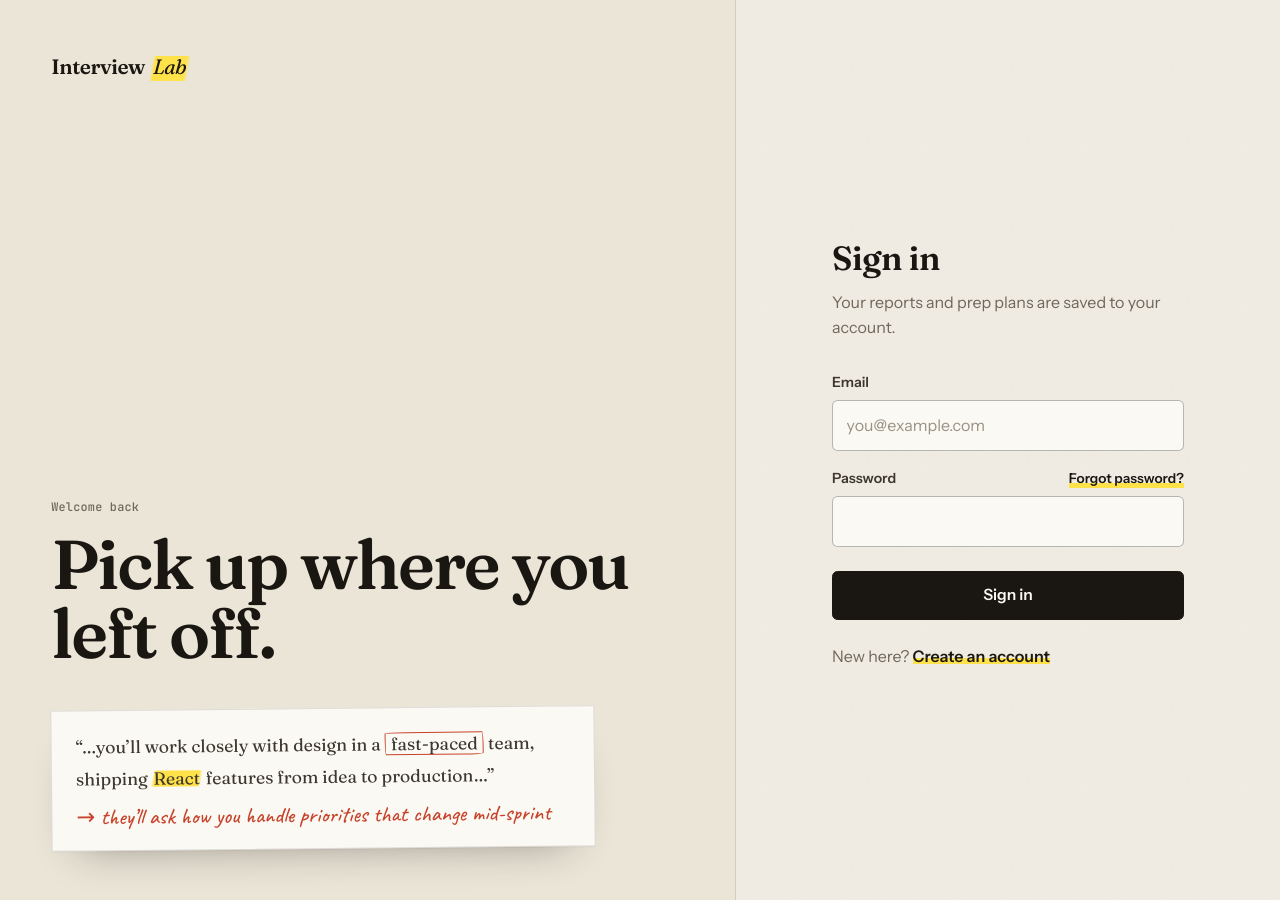
Login page › falls back to a friendly message when the server can't be reached
Type "ana@example.test" into the field labelled "Email" at (1008, 425), box [832,400,1184,451]
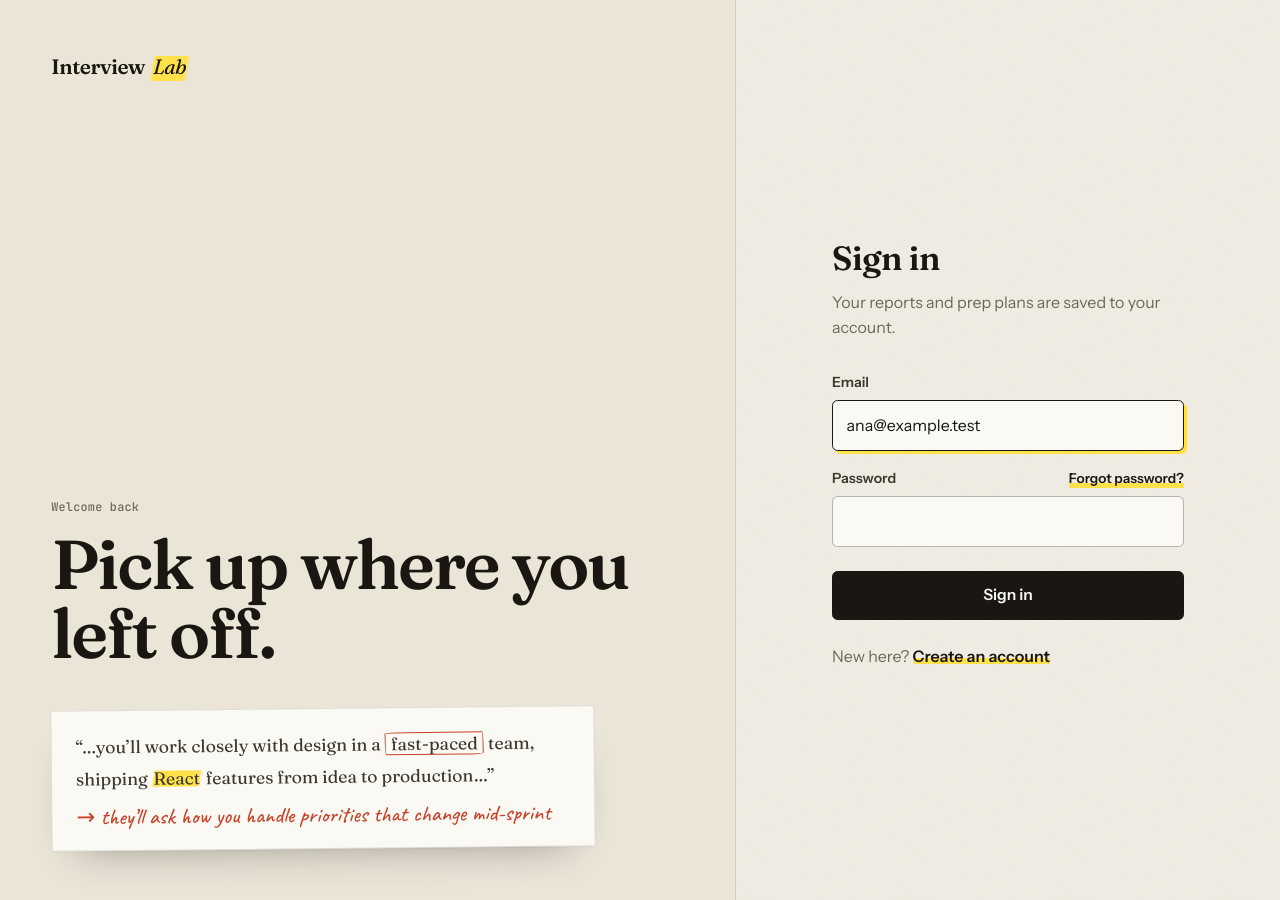
Type "pw" into the password field labelled "Password" at (1008, 522), box [832,496,1184,547]
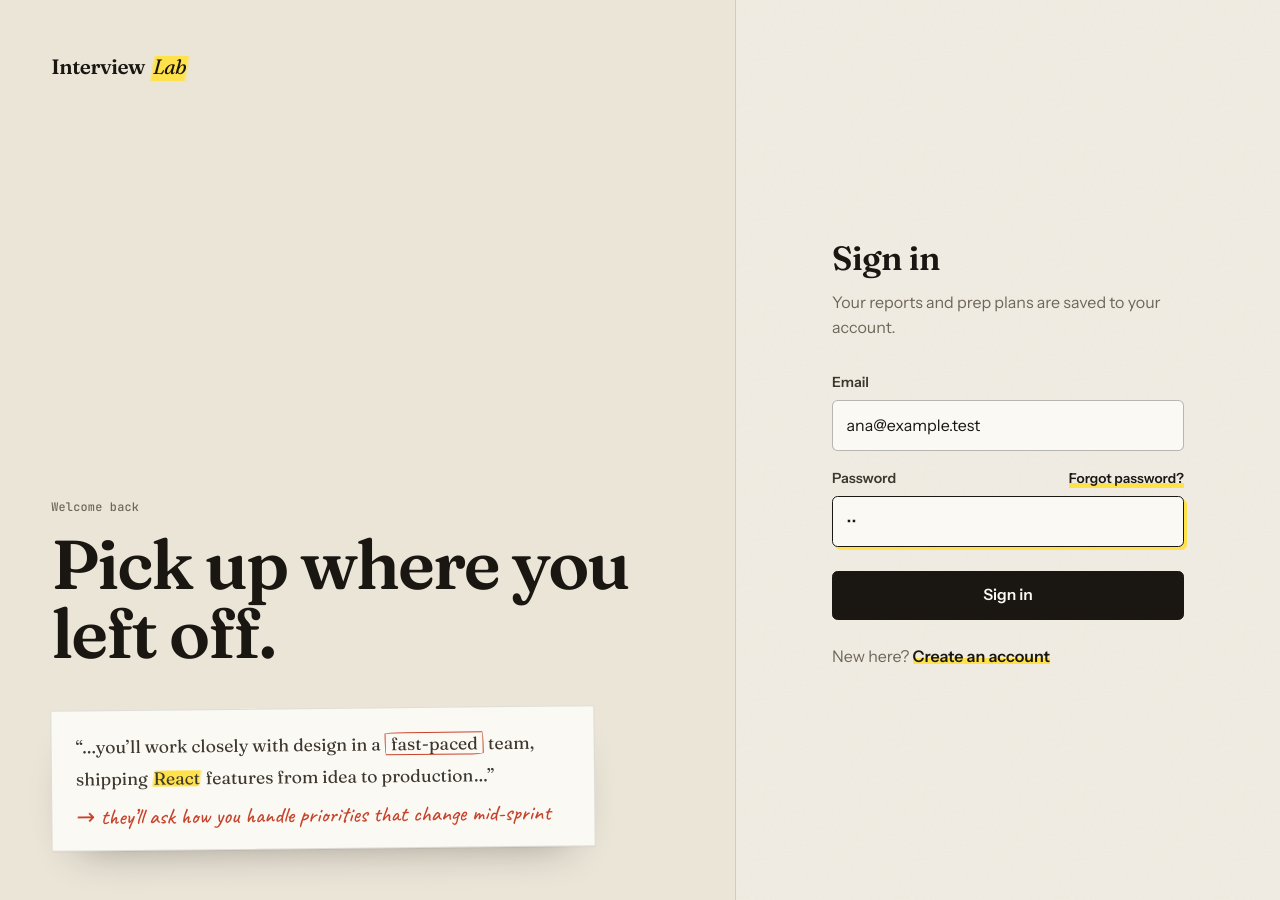
Click the button "Sign in" at (1008, 595), box [832,571,1184,620]
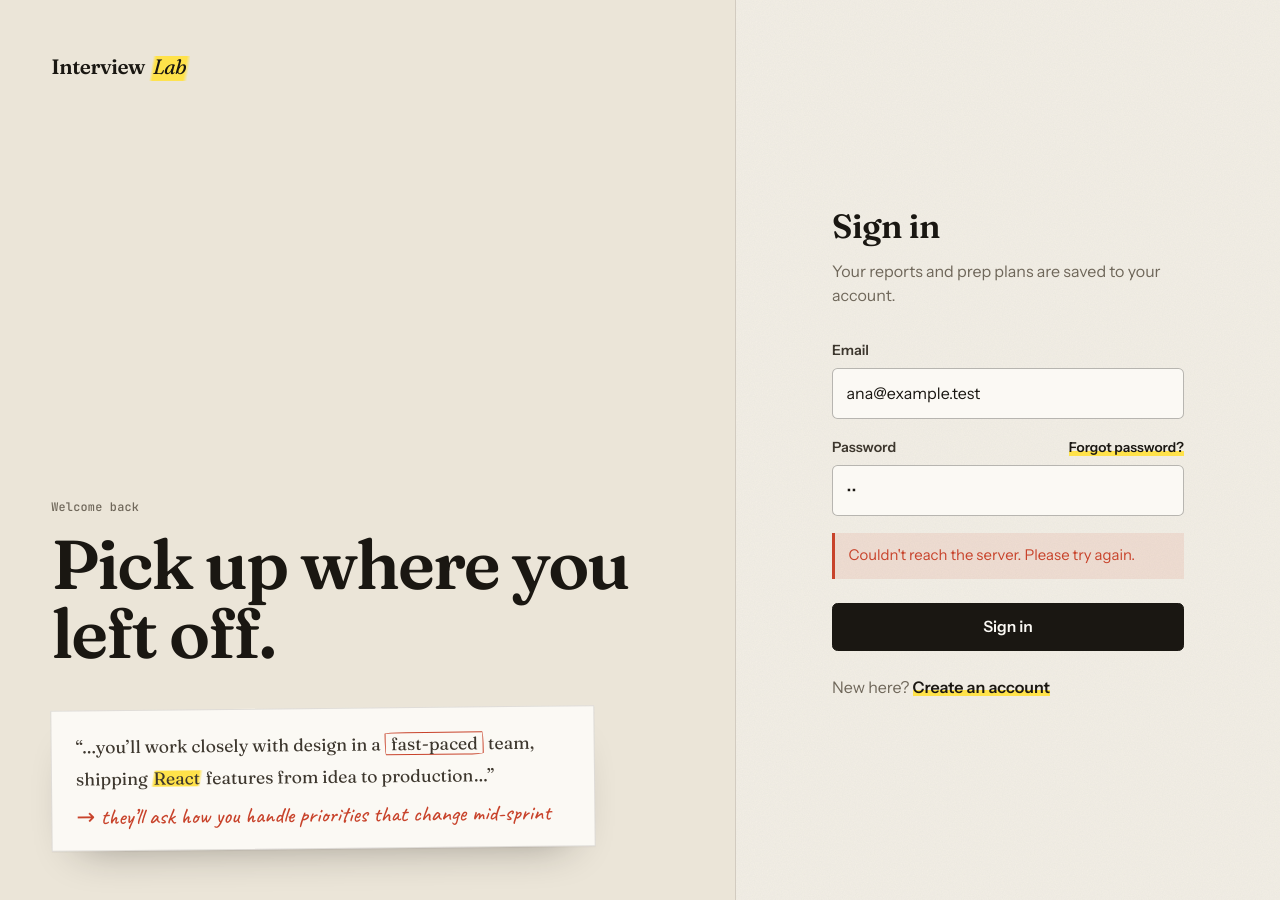
expect the message shows "Couldn't reach the server": met, box [849,546,1135,564]
